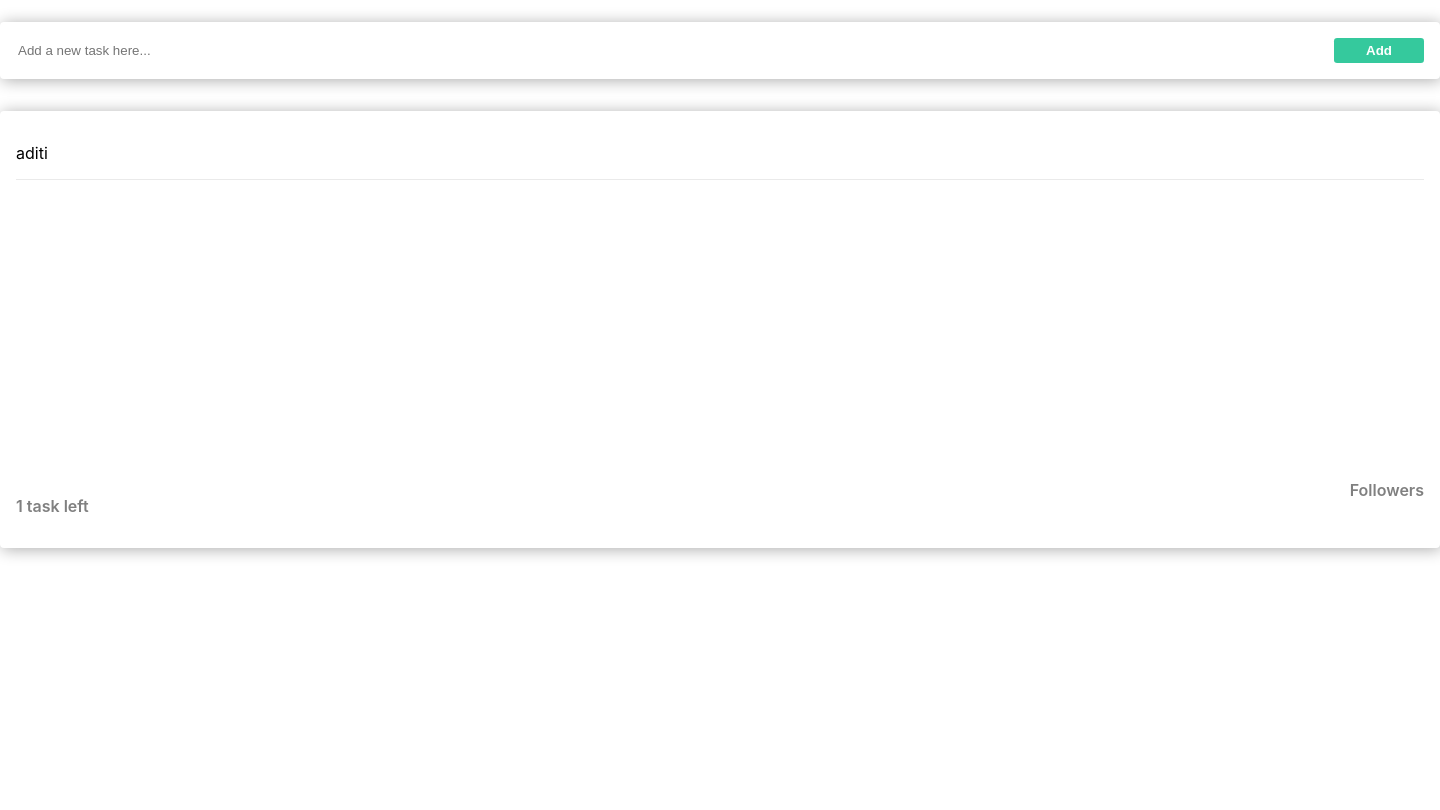
Test: Todo › should render multiple items
The width and height of the screenshot is (1440, 810).
In the field with placeholder "Add a new task here...": (652, 50) [16,38,1287,62], type "new task"
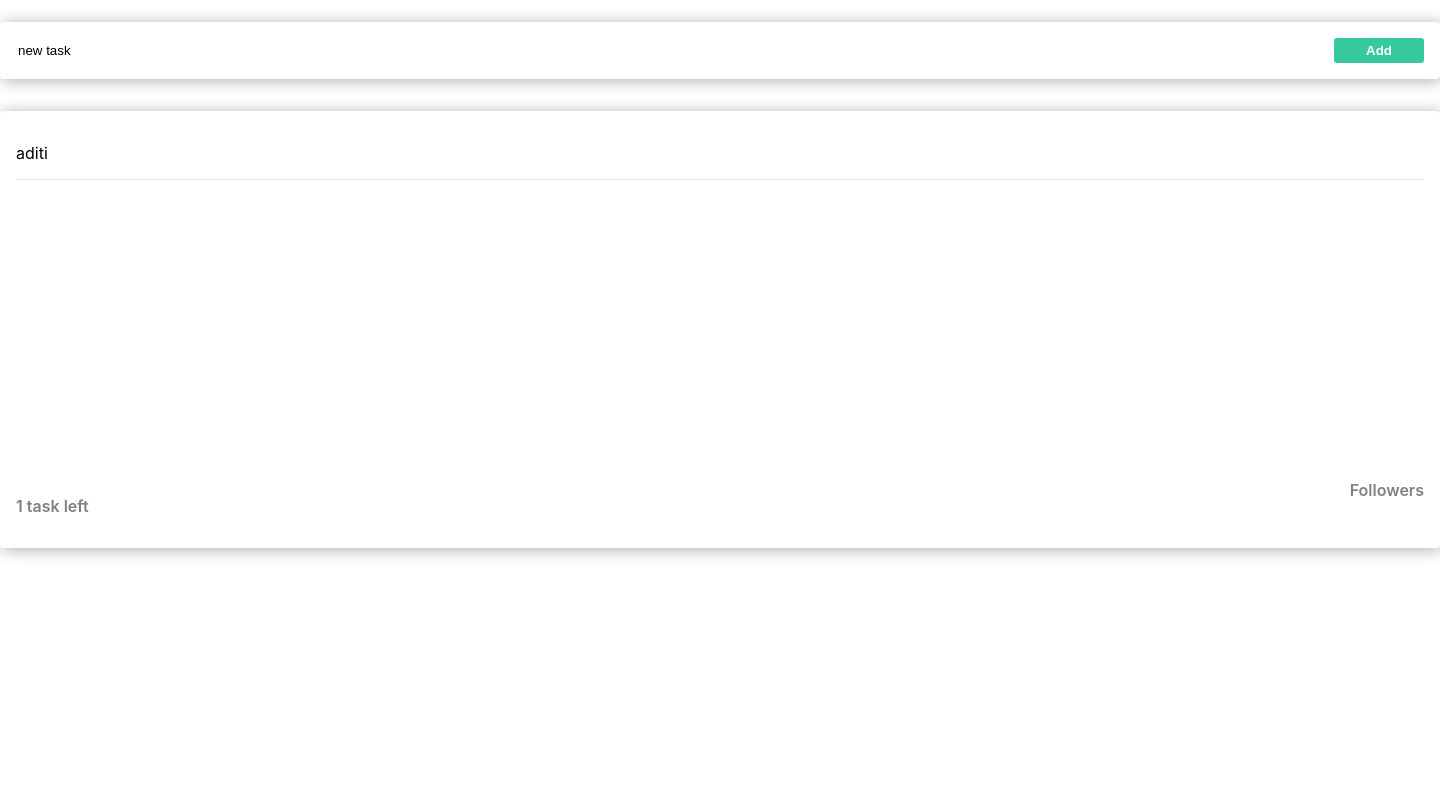
Click the button "Add": (1379, 50) [1334,38,1424,62]
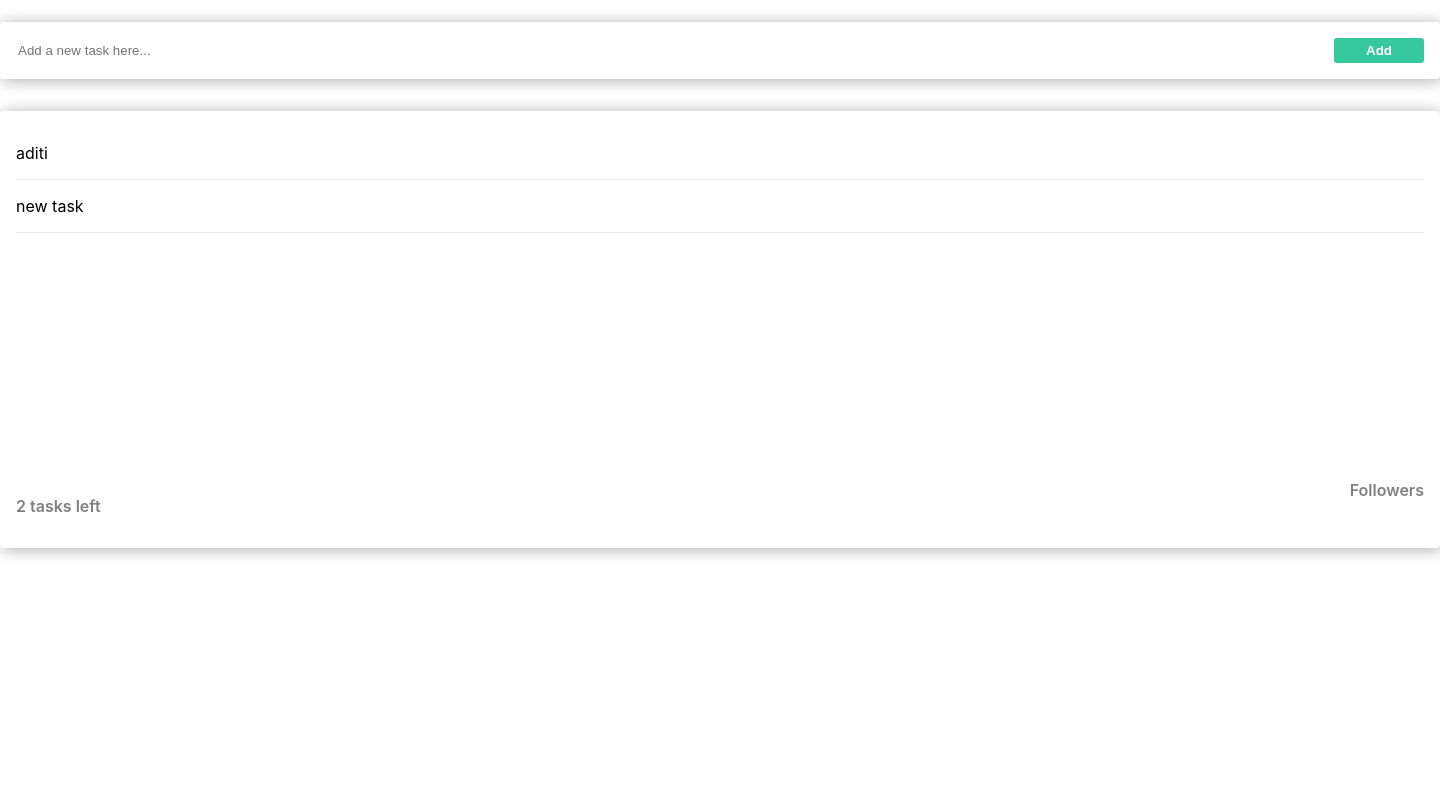
In the field with placeholder "Add a new task here...": (652, 50) [16,38,1287,62], type "Aditi"
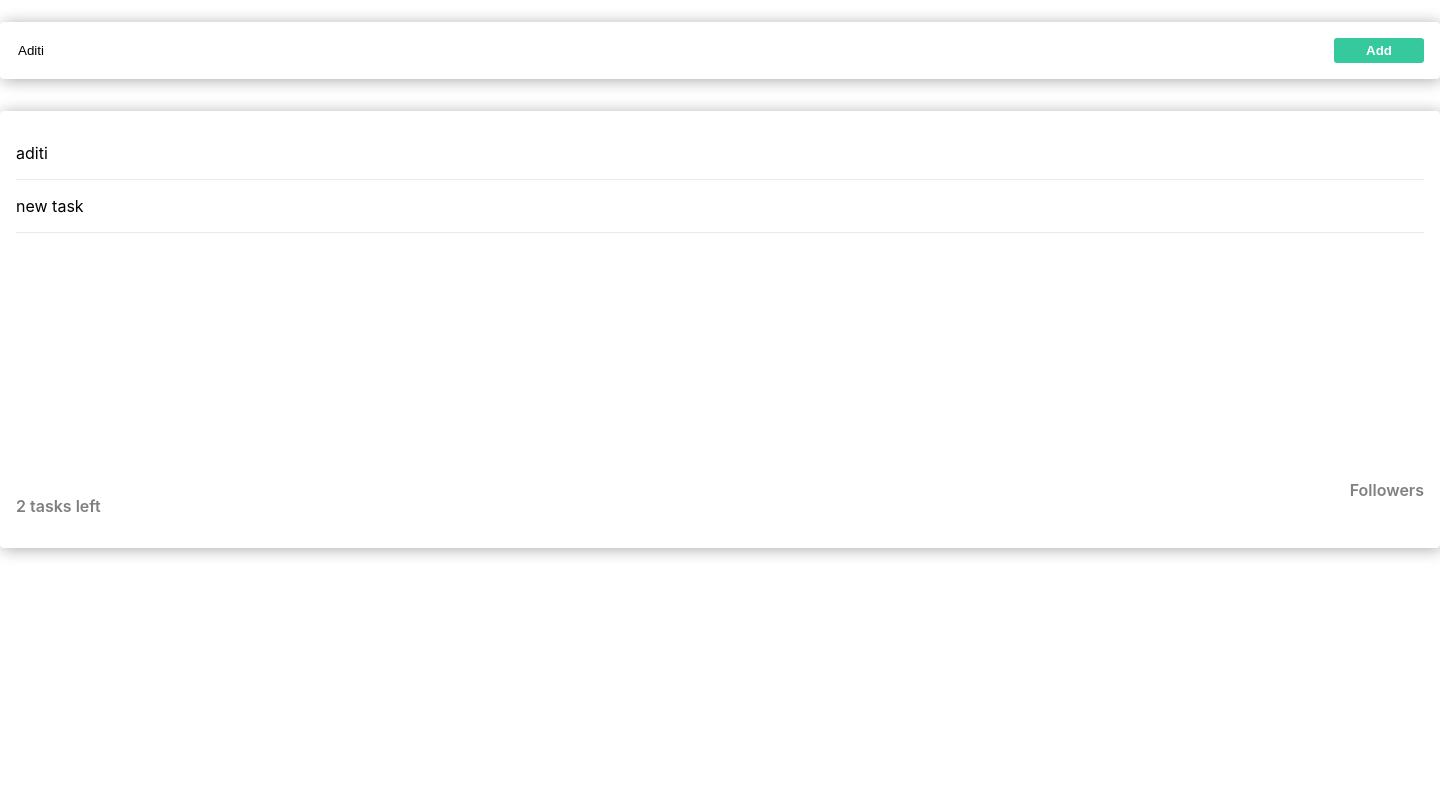
Click the button "Add": (1379, 50) [1334,38,1424,62]
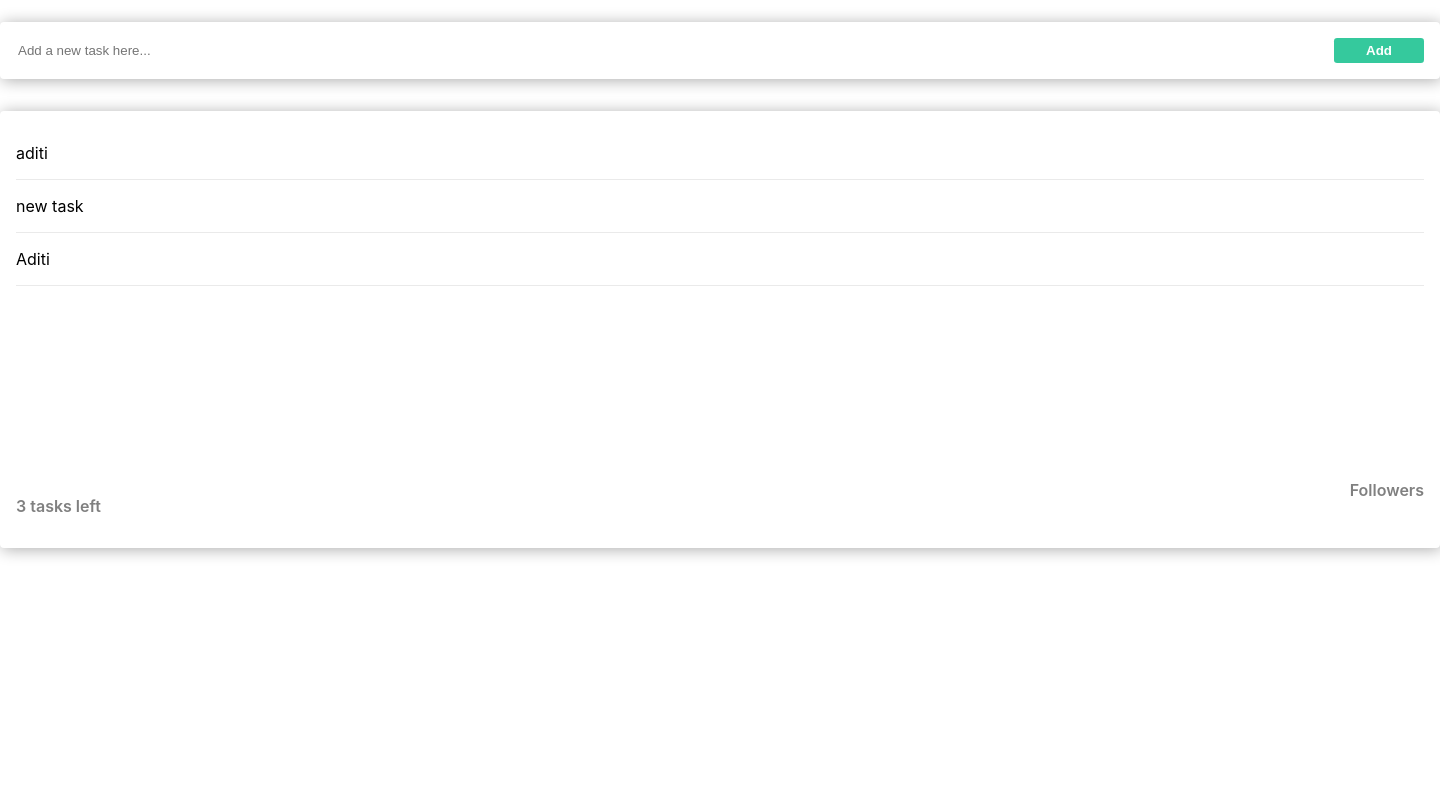
In the field with placeholder "Add a new task here...": (652, 50) [16,38,1287,62], type "Moni"
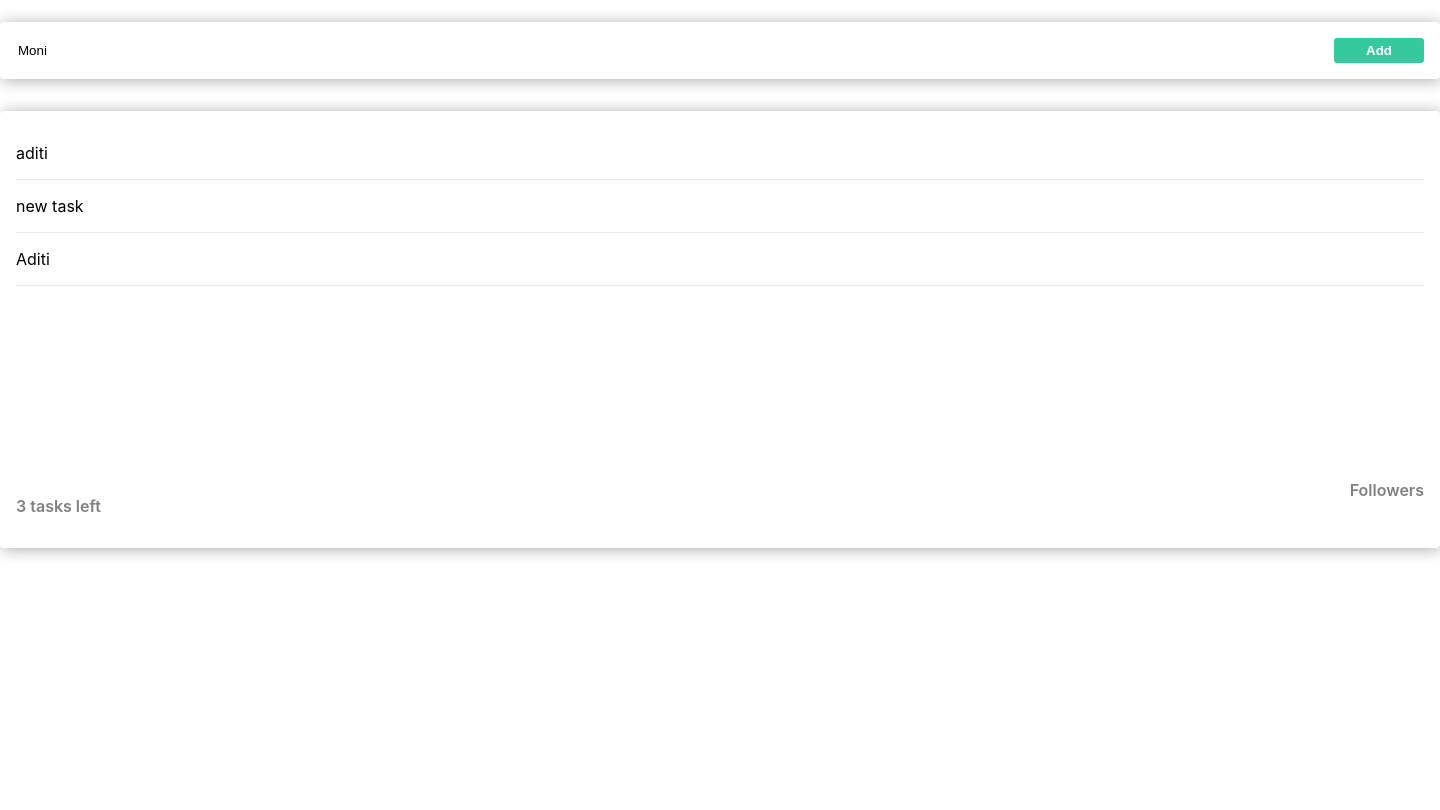
Click the button "Add": (1379, 50) [1334,38,1424,62]
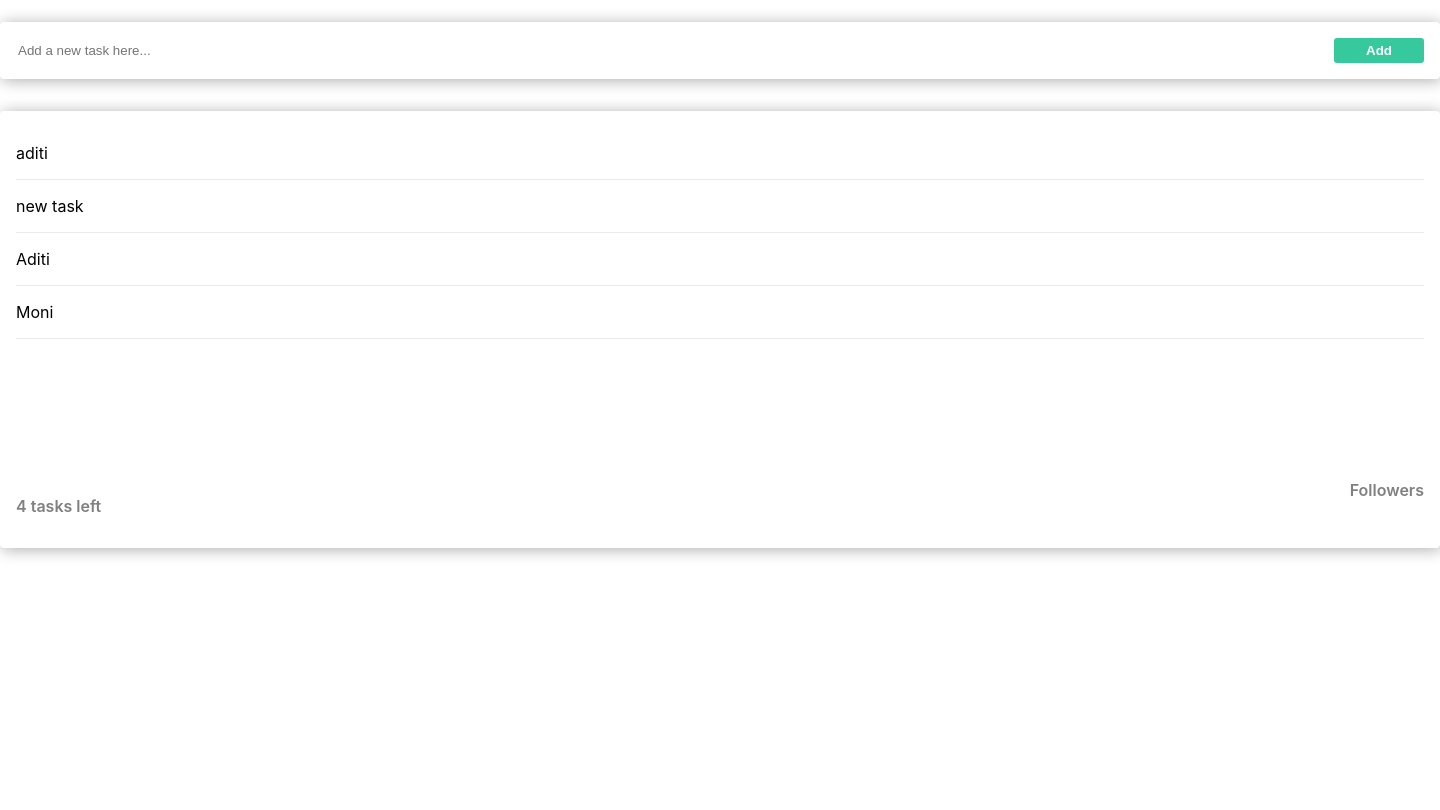
Expected: the number of elements with test id "task-container" is 4, [16,126,1424,180]; [16,180,1424,232]; [16,232,1424,286]; [16,286,1424,338]
